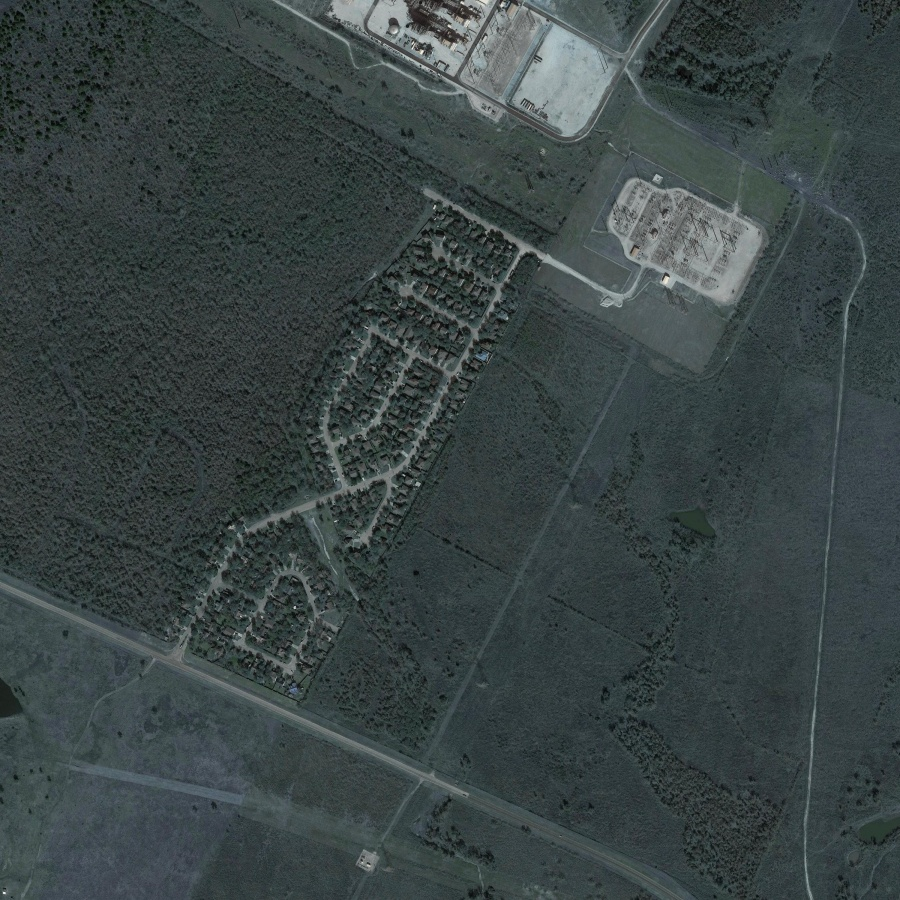PowerPlant: (605, 162, 752, 298)
